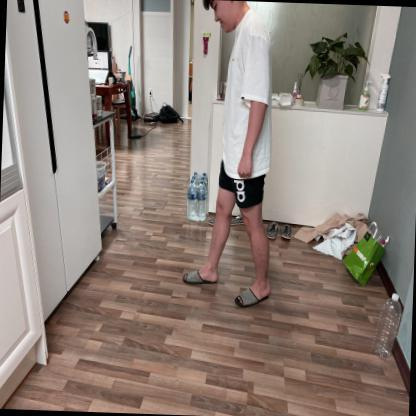no_safety-shoe: (235, 275, 276, 317), (182, 259, 221, 293)
